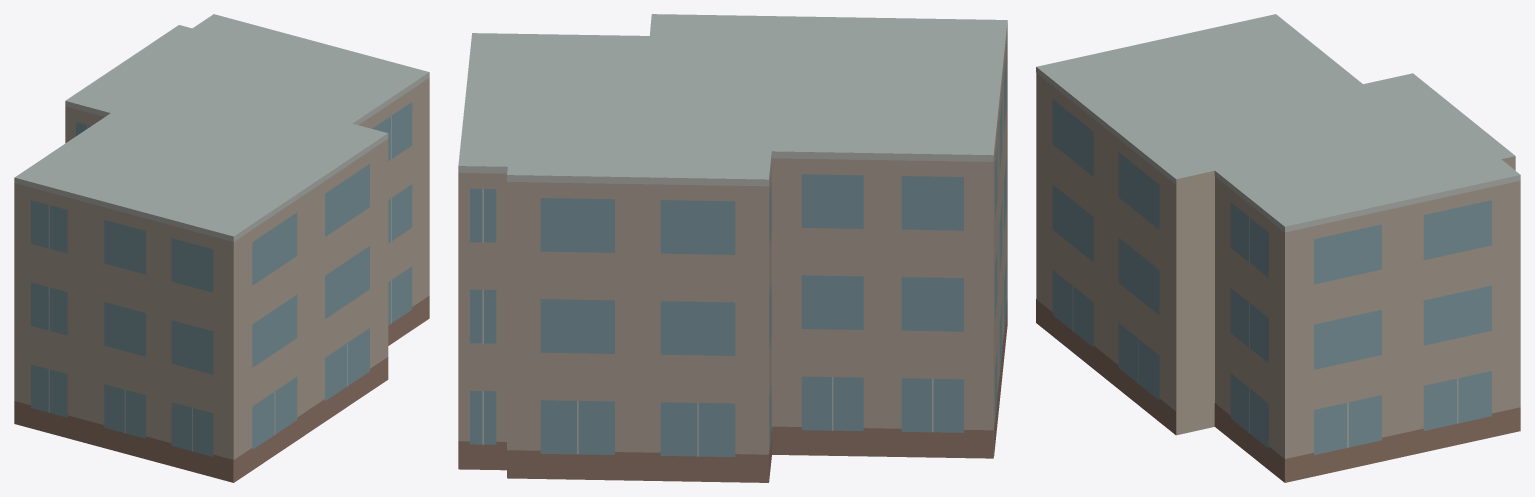
The model's file is survey-upis-32970490.glb.
The picture shows the model from 3 angles, left to right: view 1: azimuth 30°, elevation 25°; view 2: azimuth 150°, elevation 25°; view 3: azimuth 270°, elevation 25°; orthographic projection. The views are drawn at different scales.
Visible parts, largest first — view 1: survey-upis-32970490.tmp; view 2: survey-upis-32970490.tmp; view 3: survey-upis-32970490.tmp.
Boxes of the visible parts, <box> form: survey-upis-32970490.tmp: <box>14,14,429,482</box>; survey-upis-32970490.tmp: <box>458,14,1007,482</box>; survey-upis-32970490.tmp: <box>1036,14,1520,482</box>.
Bounding box in the file's own units: 19.43 × 10.9 × 18.7.
